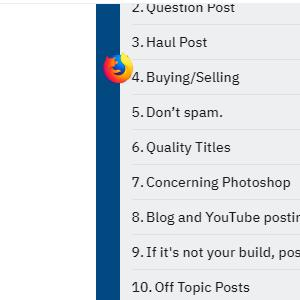firefox: (103, 52, 133, 84)
